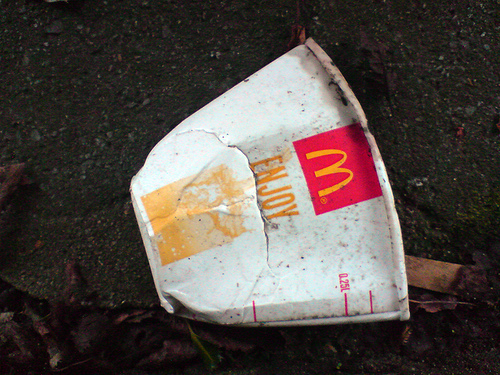litter: (130, 38, 410, 325)
